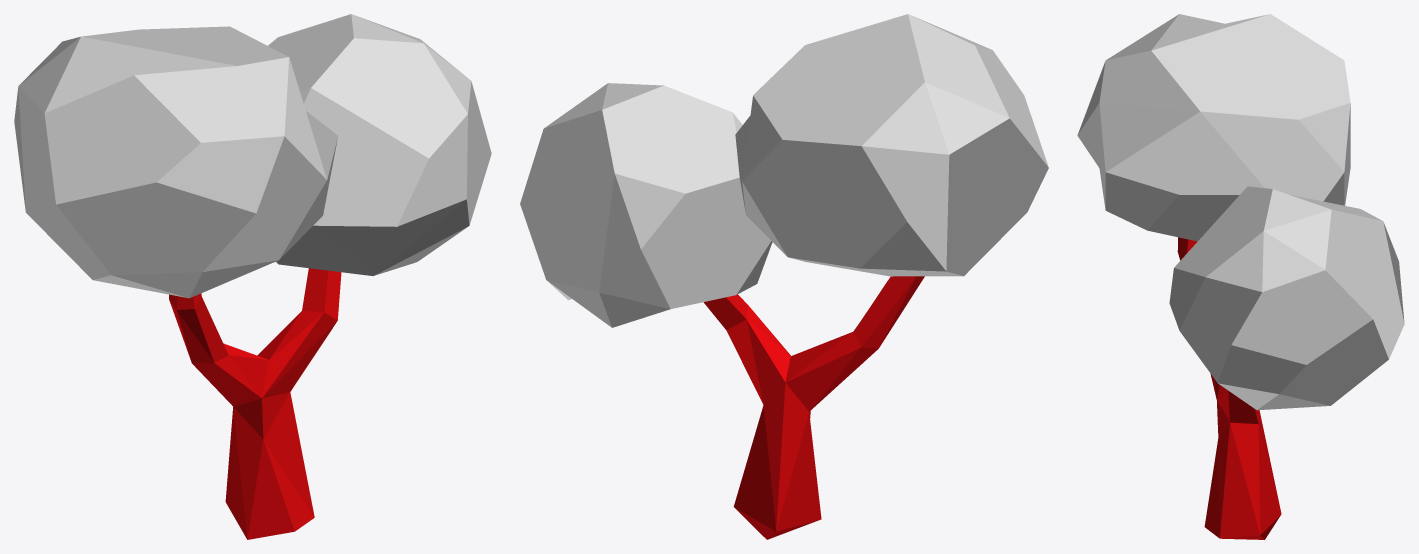
Rendered from BallTree.fbx.
The picture shows the model from 3 angles, left to right: view 1: azimuth 30°, elevation 25°; view 2: azimuth 150°, elevation 25°; view 3: azimuth 270°, elevation 25°; orthographic projection. The views are drawn at different scales.
Parts seen in each view (by area): view 1: Plane; view 2: Plane; view 3: Plane.
Boxes of the visible parts, x1=… form: Plane: x1=14, y1=14, x2=491, y2=539; Plane: x1=520, y1=14, x2=1048, y2=539; Plane: x1=1077, y1=14, x2=1404, y2=539.
Bounding box in the file's own units: 408 × 437 × 285.
